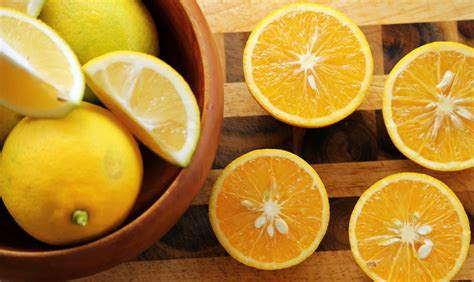orange: (1, 103, 143, 249)
